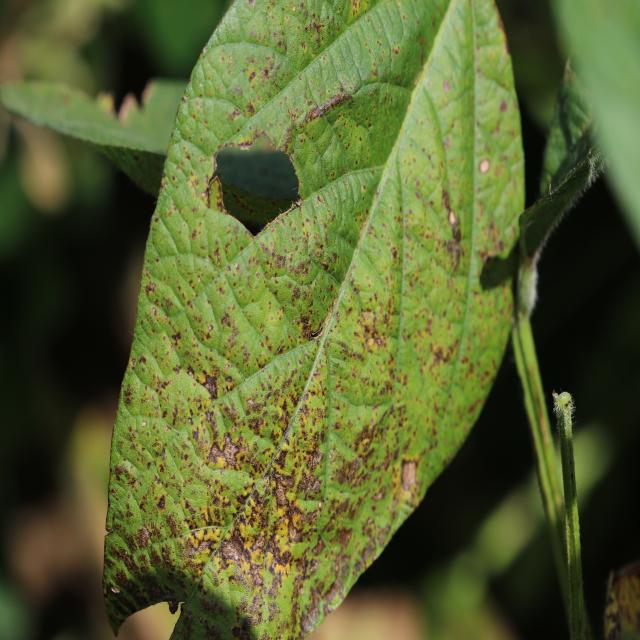Bacterial_Blight: (192, 388, 262, 487), (212, 523, 280, 612), (249, 174, 330, 245), (437, 201, 475, 268), (479, 249, 518, 290), (225, 121, 270, 152), (313, 90, 353, 120), (329, 338, 366, 364), (304, 15, 327, 48), (299, 467, 322, 499), (202, 169, 219, 211), (430, 341, 458, 366), (148, 582, 176, 605), (399, 457, 419, 489), (330, 459, 352, 488), (200, 371, 220, 401), (298, 317, 314, 340), (137, 525, 152, 549), (123, 383, 137, 405), (273, 341, 287, 356), (228, 106, 241, 121), (170, 329, 182, 345), (479, 158, 490, 173), (114, 463, 126, 476), (221, 315, 232, 329), (145, 283, 156, 296), (157, 494, 166, 509), (442, 80, 451, 93), (499, 99, 507, 112), (248, 70, 256, 82), (105, 526, 114, 536), (110, 585, 120, 594), (131, 356, 137, 369), (552, 390, 559, 401), (548, 181, 553, 196), (207, 323, 214, 332), (187, 416, 194, 425), (201, 191, 207, 200), (587, 147, 592, 156), (141, 421, 147, 428), (198, 616, 203, 624), (207, 482, 212, 490)
Soybean: (101, 0, 525, 640)
